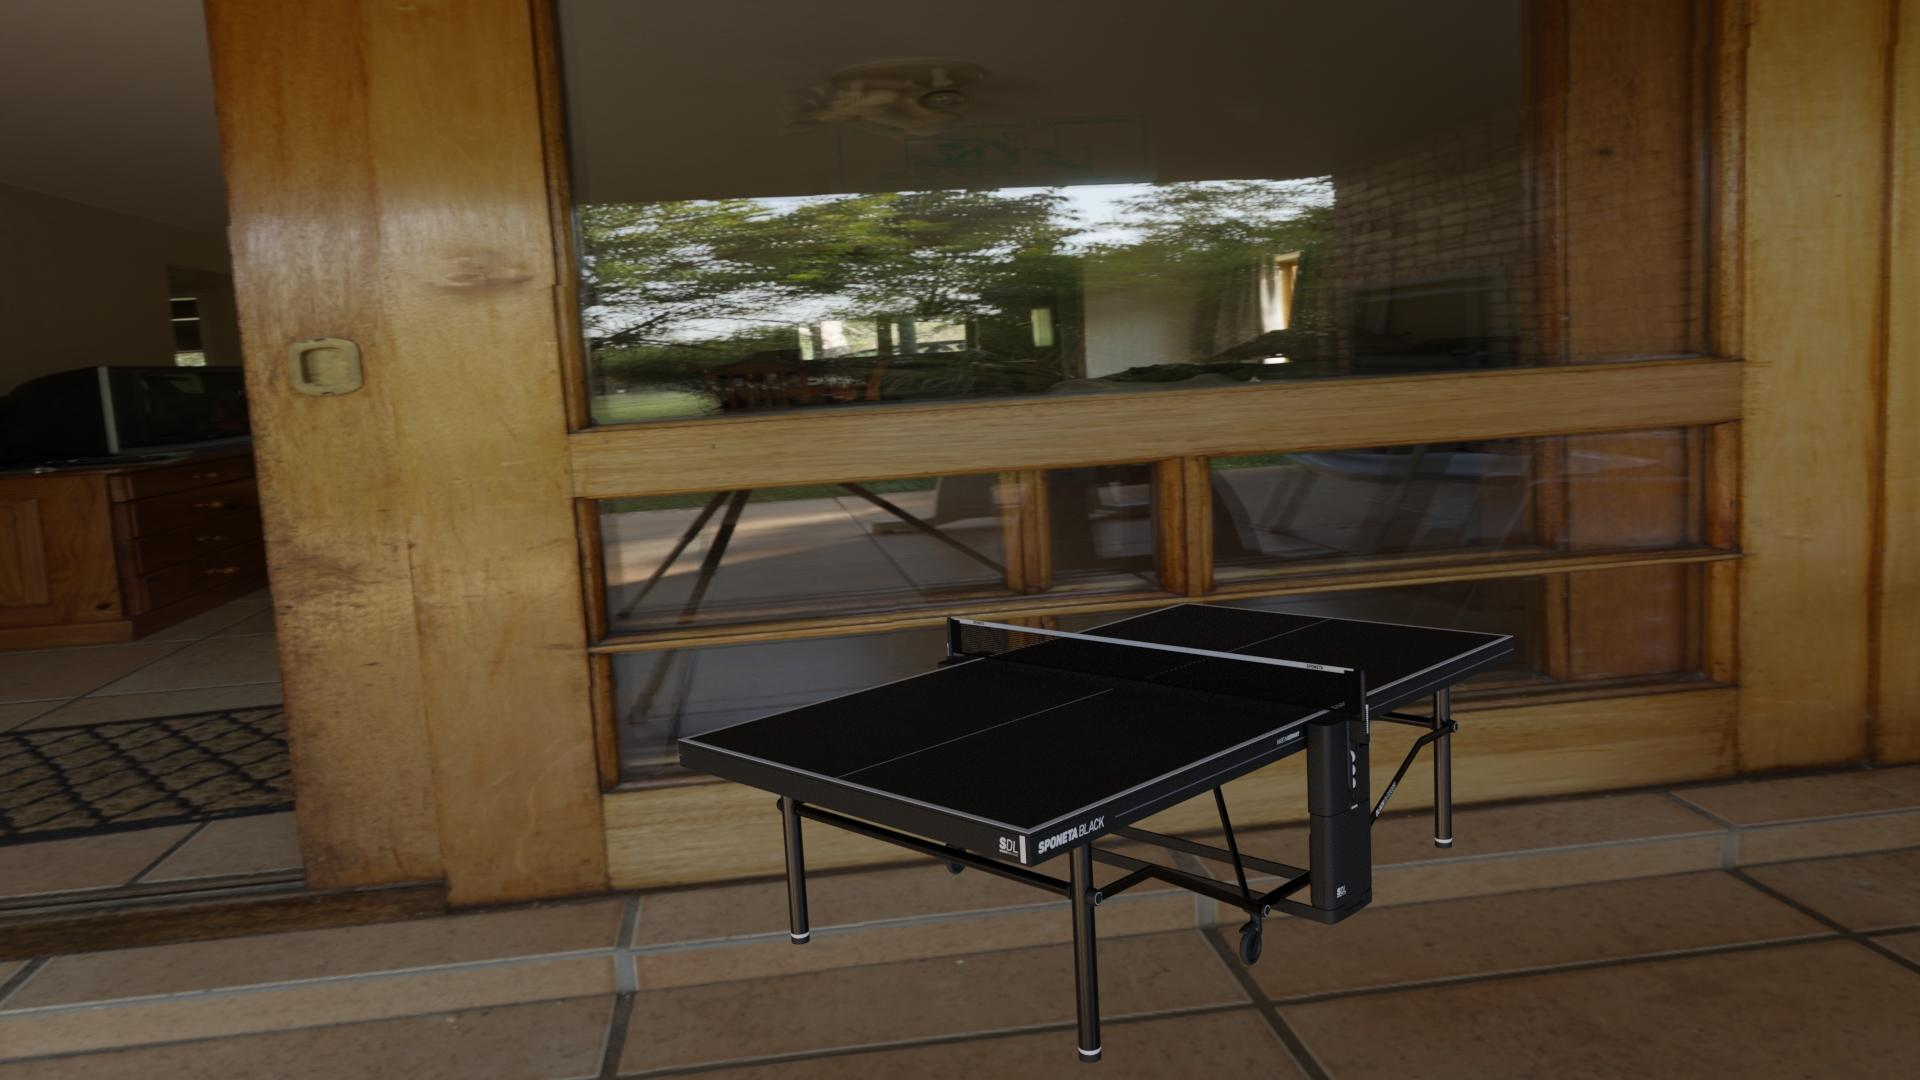table: (687, 604, 1506, 829)
